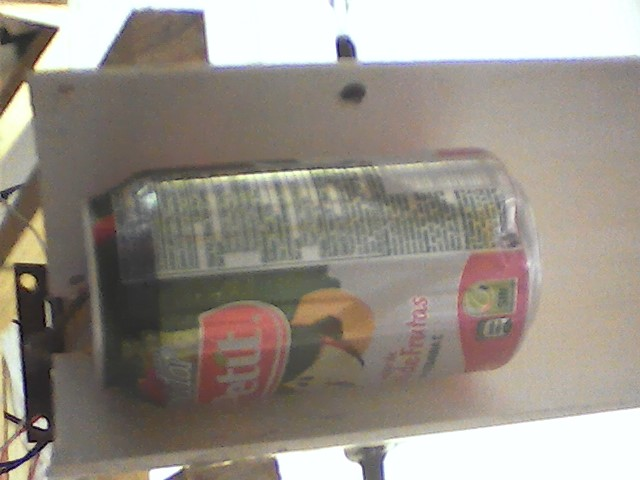lata: (70, 141, 553, 413)
